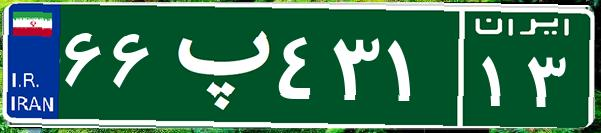1: (385, 28, 445, 110), (475, 38, 525, 113)
3: (330, 28, 385, 110), (525, 38, 570, 115)
4: (273, 28, 330, 110)
6: (57, 26, 110, 107), (110, 28, 158, 105)
پ: (158, 15, 273, 115)
